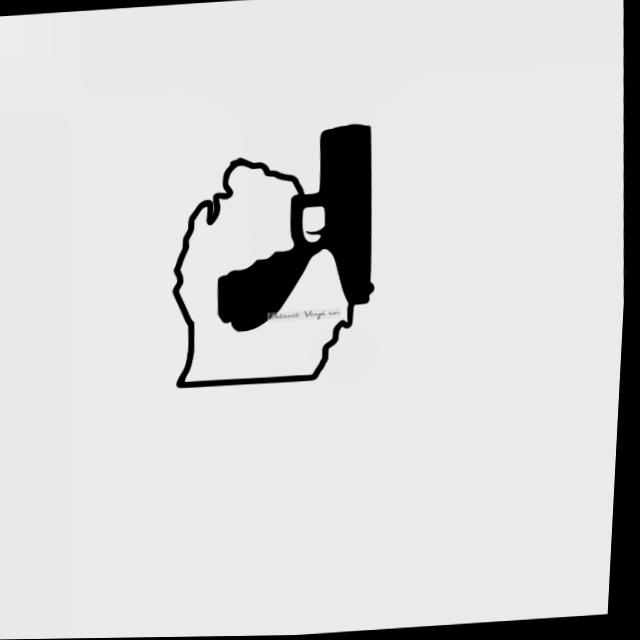pistol: (212, 123, 390, 333)
